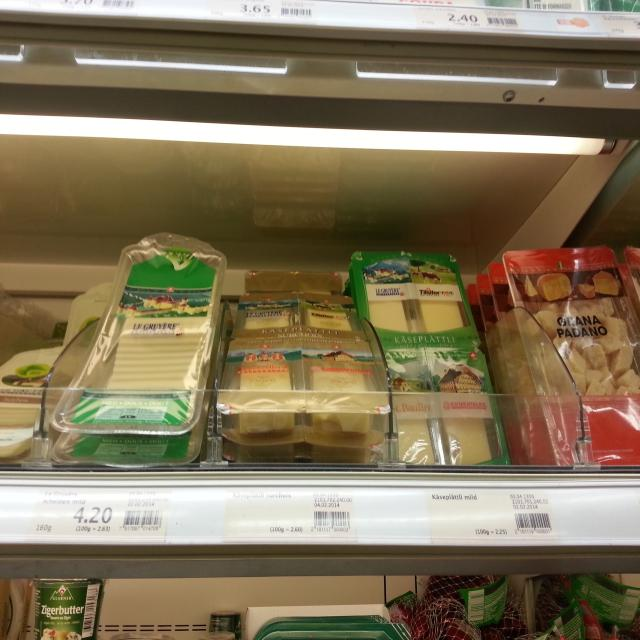Cheese: (51, 229, 233, 438), (348, 249, 516, 473), (499, 248, 640, 474), (212, 275, 390, 443)
